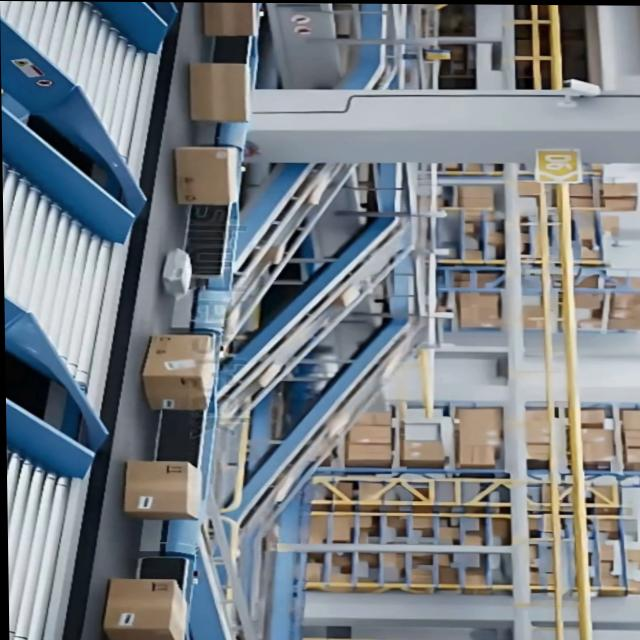product 1: (142, 332, 217, 410), (174, 145, 241, 205), (189, 79, 251, 121)
product 2: (161, 247, 194, 297)
